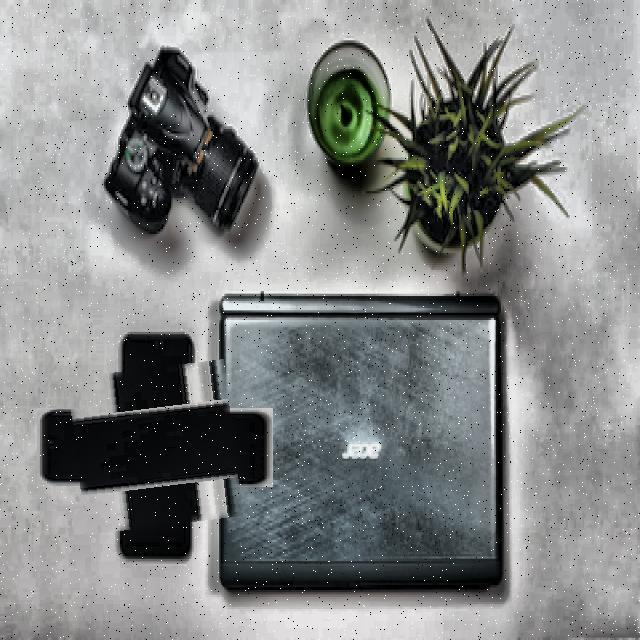Phone: (72, 364, 239, 530)
